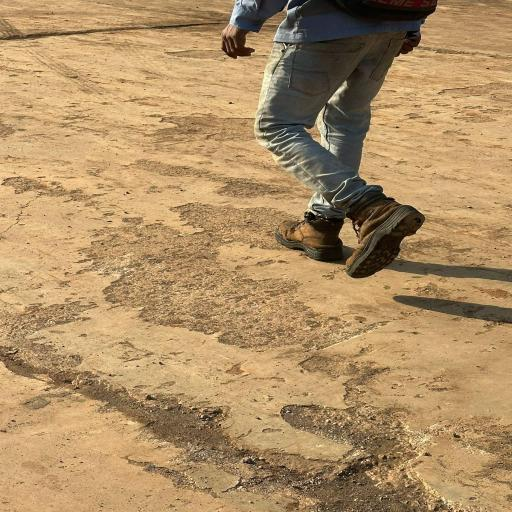safety_shoe: (331, 183, 431, 279), (268, 207, 352, 266)
